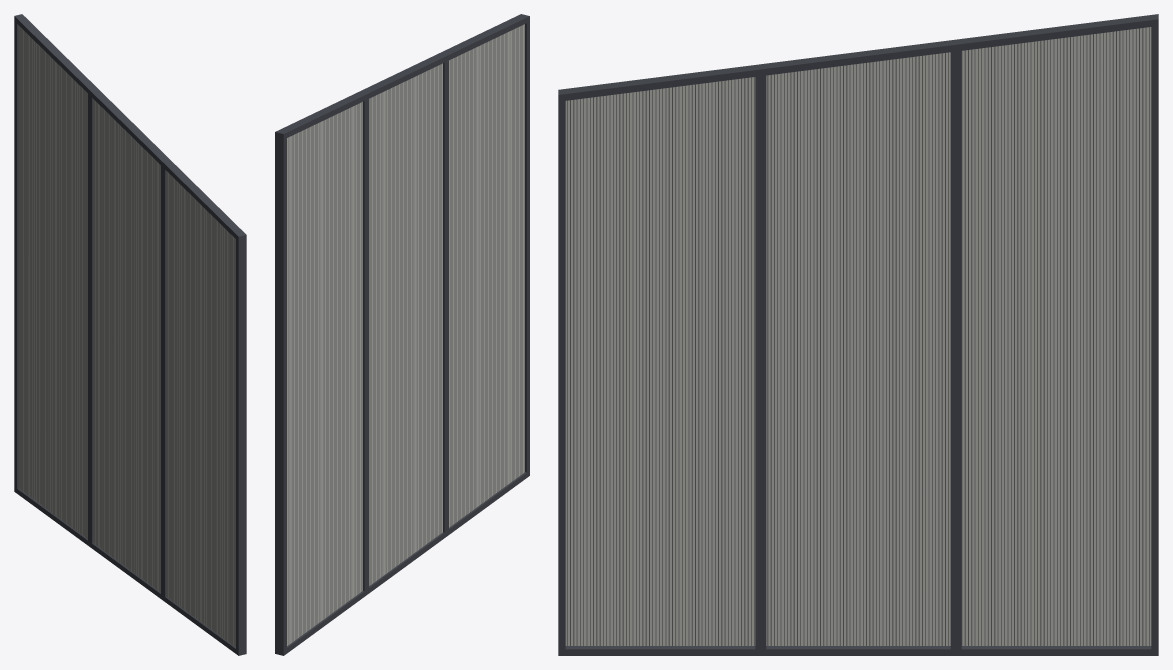
File: nebbiolo_sidewall_left_poly_grey_400_250.glb
3 views of the same model, side by side, from view 1: azimuth 30°, elevation 25°; view 2: azimuth 150°, elevation 25°; view 3: azimuth 270°, elevation 25° (orthographic). The views are drawn at different scales.
Parts seen in each view (by area): view 1: sidewall_left_poly_grey_400_250; view 2: sidewall_left_poly_grey_400_250; view 3: sidewall_left_poly_grey_400_250.
Boxes of the visible parts, bbox=[...] form: sidewall_left_poly_grey_400_250: bbox=[14, 14, 246, 655]; sidewall_left_poly_grey_400_250: bbox=[275, 14, 529, 655]; sidewall_left_poly_grey_400_250: bbox=[558, 14, 1158, 655].
Bounding box in the file's own units: 0.05 × 2.85 × 2.44.
Materials: 2 (2 with a texture image).
